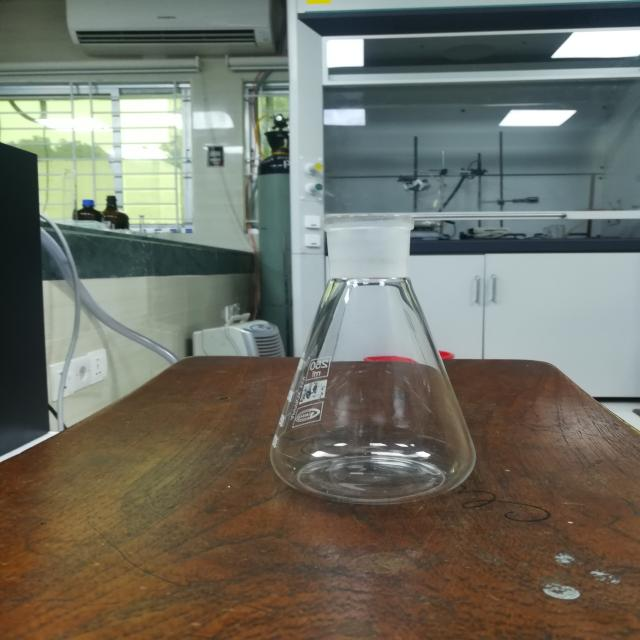Conical_Flask: (239, 182, 504, 544)
